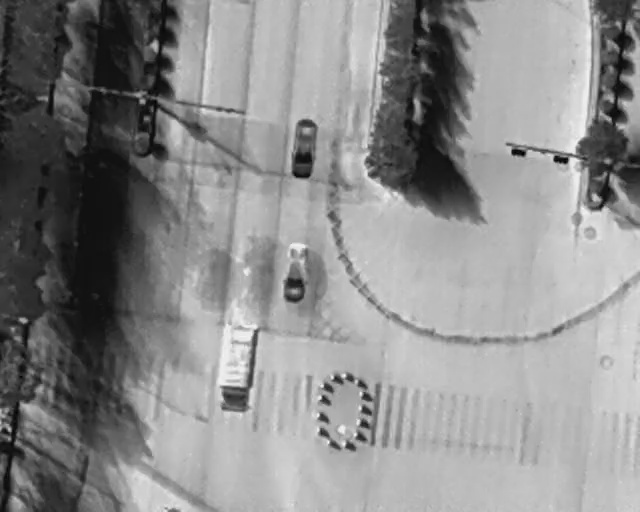Car: (280, 240, 313, 303), (288, 118, 320, 180)
OtherVehicle: (215, 322, 258, 413)
